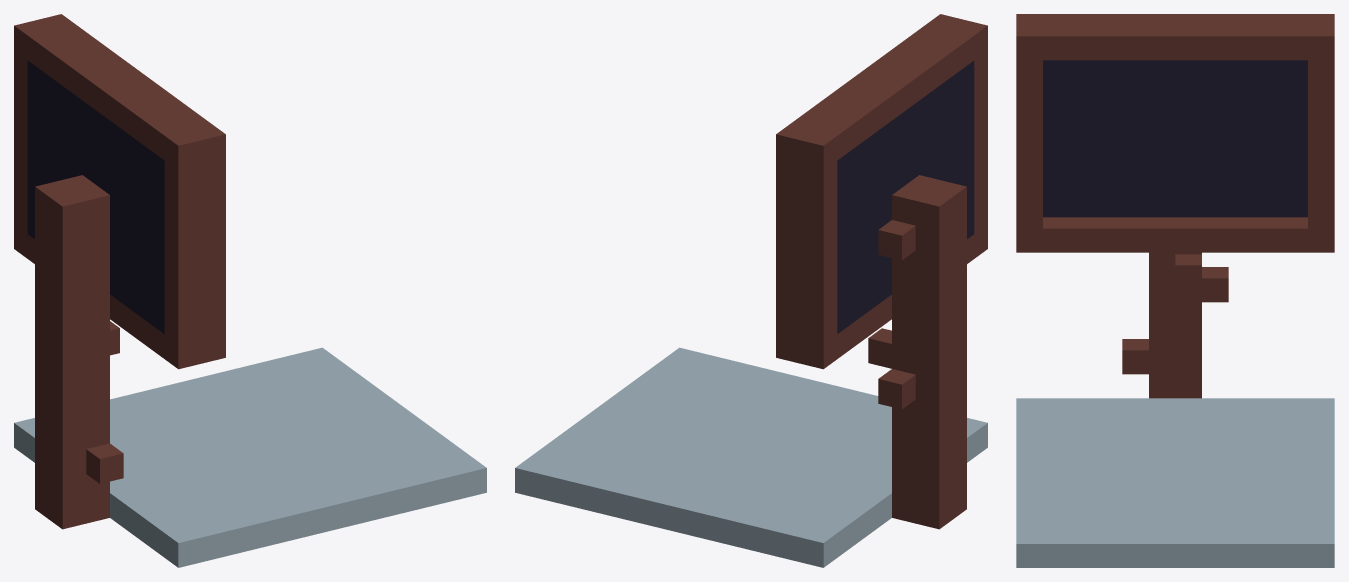
File: VotingPressurePlate.gltf
3 views of the same model, side by side, from view 1: azimuth 30°, elevation 25°; view 2: azimuth 150°, elevation 25°; view 3: azimuth 270°, elevation 25° (orthographic). The views are drawn at different scales.
Bounding box in the file's own units: 15 × 17 × 12.
Materials: 1 (1 with a texture image).
